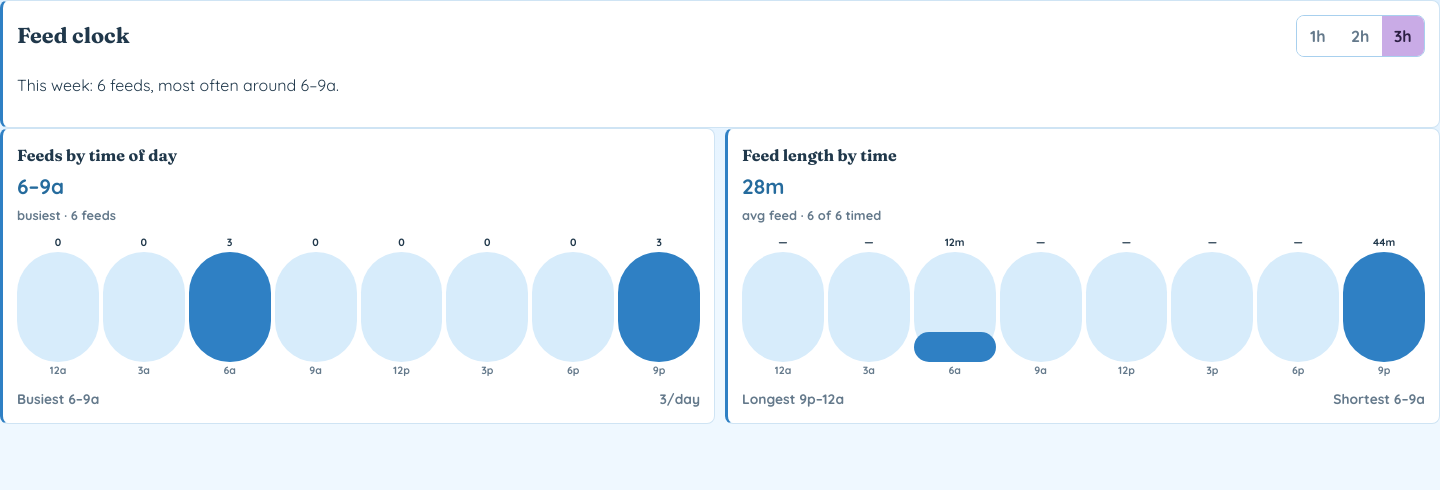
FeedClock › reads out the feeds and their lengths for a band on tap
Click the button named "9p–12a: 3 feeds · 3/day": (659,307) [618,237,700,377]
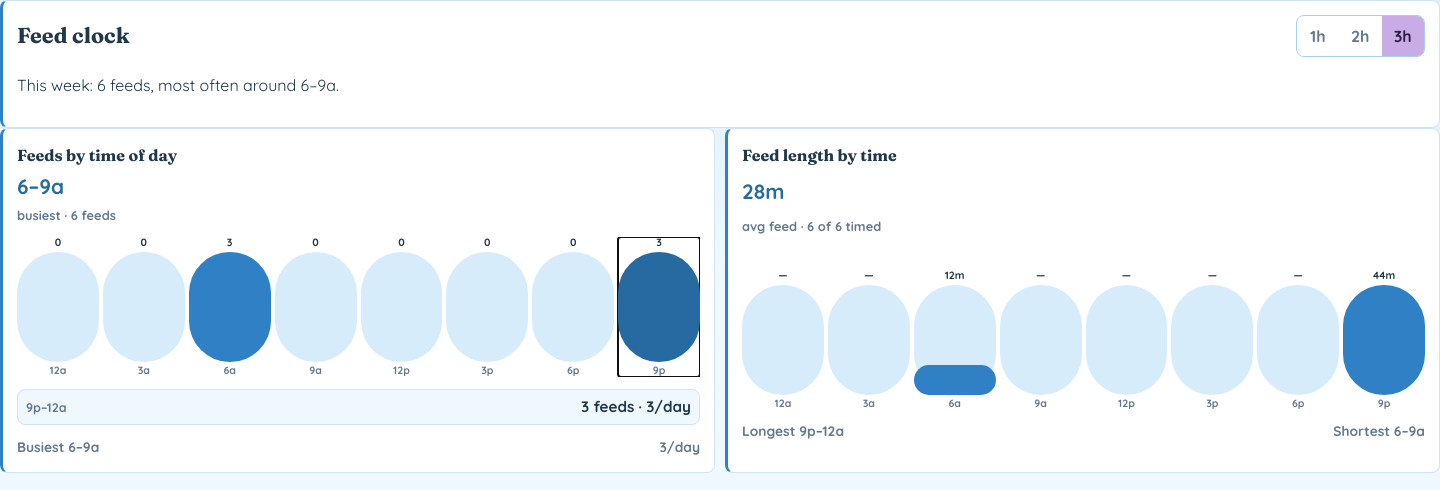
Click the button named "9p–12a: 44m avg · 40m–48m · 3 timed": (1384,340) [1343,270,1425,409]
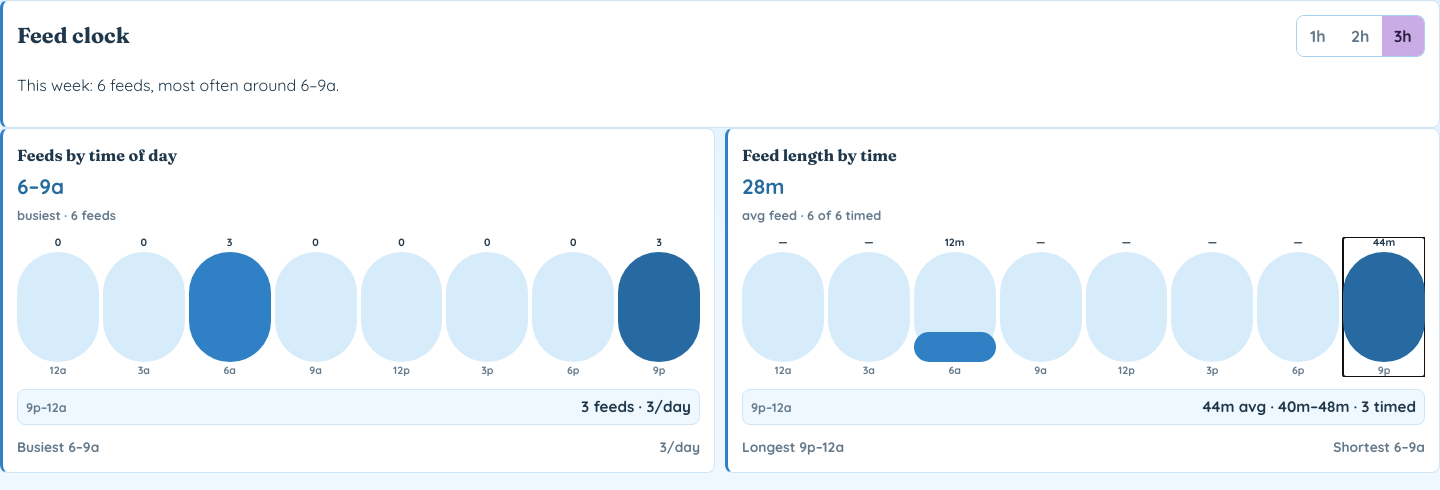
Expected: the text "9p–12a" in the row of "3 feeds · 3/day" is shown, [26,400,67,415]
Expected: the text "44m avg · 40m–48m · 3 timed" is shown, [1203,396,1416,418]
